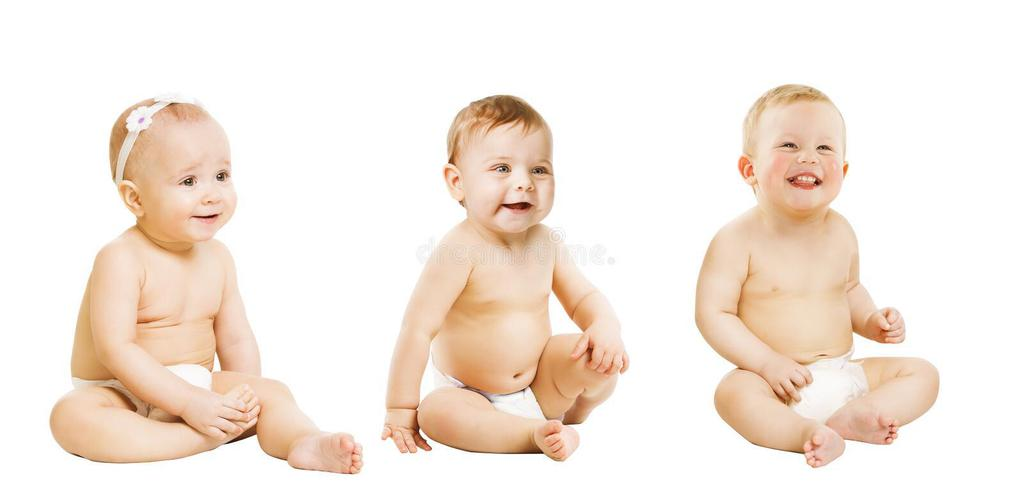child: (50, 85, 372, 483), (377, 83, 648, 468), (687, 75, 949, 467)
